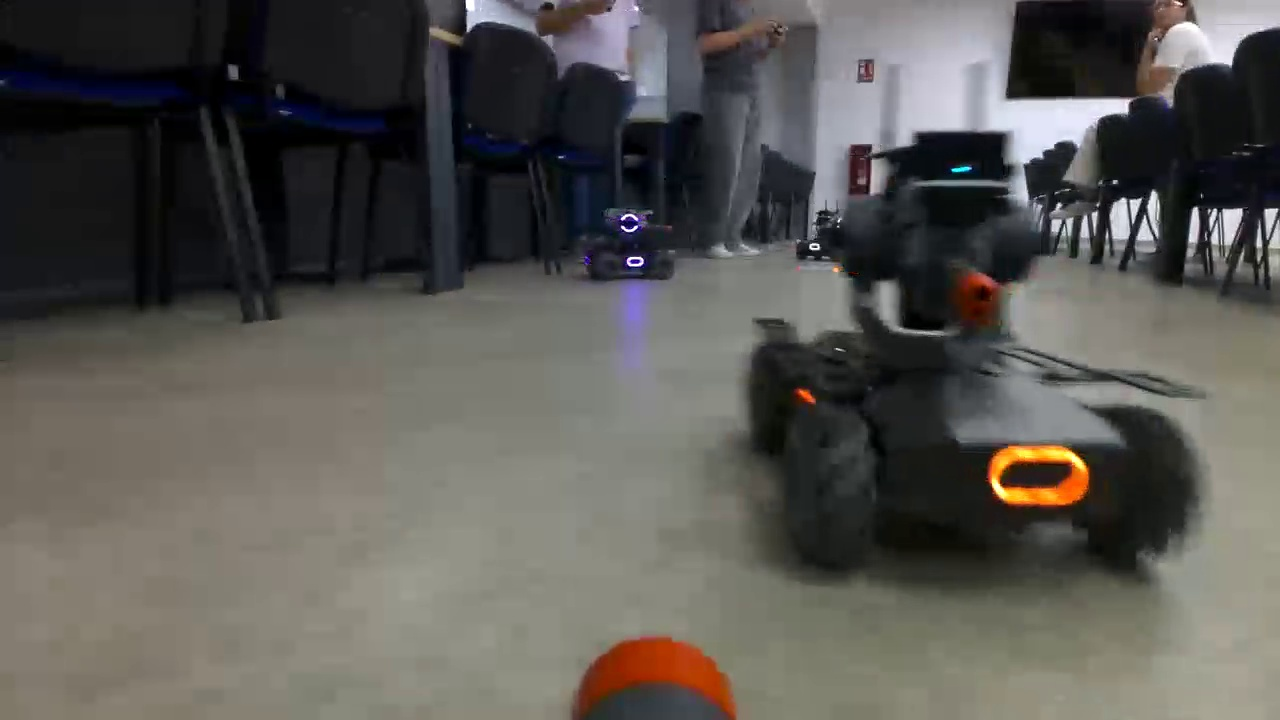robot: (742, 130, 1205, 575), (578, 205, 678, 282), (805, 205, 845, 258)
